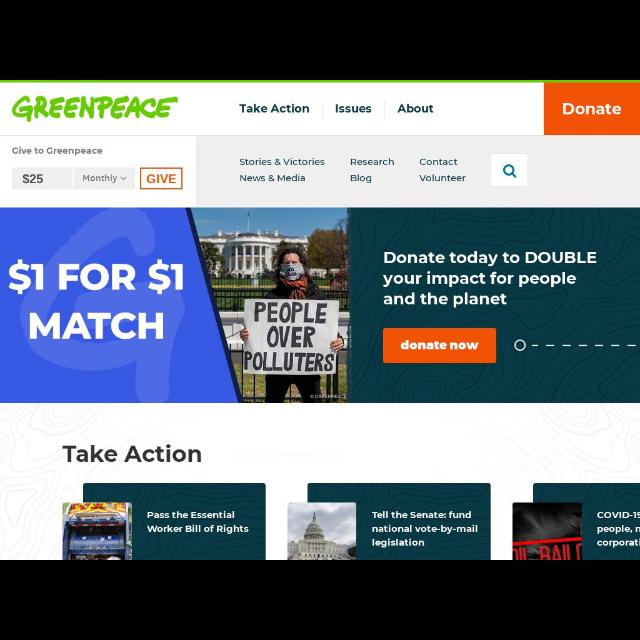button: (491, 155, 527, 187)
icon: (503, 164, 517, 178), (121, 176, 127, 180)
image: (1, 208, 639, 402), (10, 95, 178, 123), (288, 503, 357, 559), (64, 503, 132, 559), (512, 504, 582, 558)
spinner: (75, 168, 135, 190)
text: (372, 510, 478, 548), (64, 444, 200, 464), (148, 512, 250, 534), (597, 512, 639, 546), (238, 102, 310, 118), (12, 146, 102, 156), (560, 103, 622, 117), (240, 160, 326, 167), (396, 102, 434, 116), (418, 174, 466, 184), (239, 175, 305, 182), (334, 104, 372, 115), (348, 158, 396, 166), (148, 173, 176, 184), (420, 158, 458, 166), (83, 176, 117, 184), (22, 173, 44, 185), (350, 174, 372, 184)
textbutton: (142, 168, 182, 188)
toolbar: (1, 82, 639, 134)
